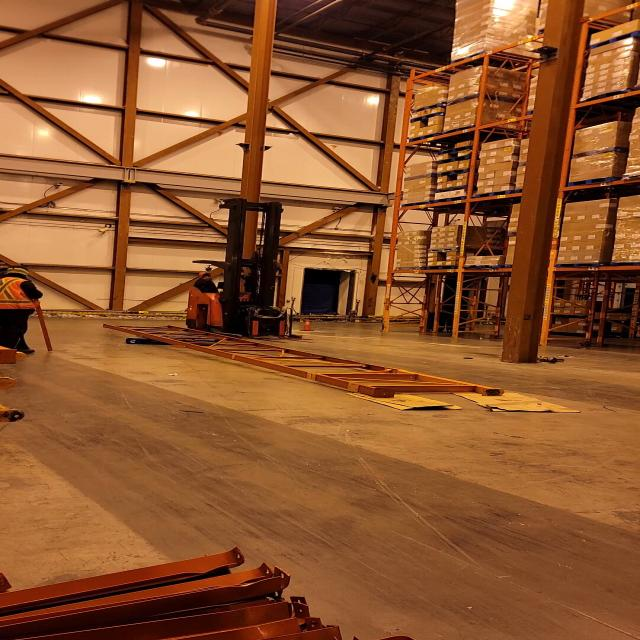forklift: (185, 202, 315, 342)
human: (0, 264, 51, 348), (188, 268, 237, 296)
objectofinterest: (100, 319, 508, 400), (446, 384, 582, 414), (340, 387, 465, 412), (120, 334, 160, 348)
